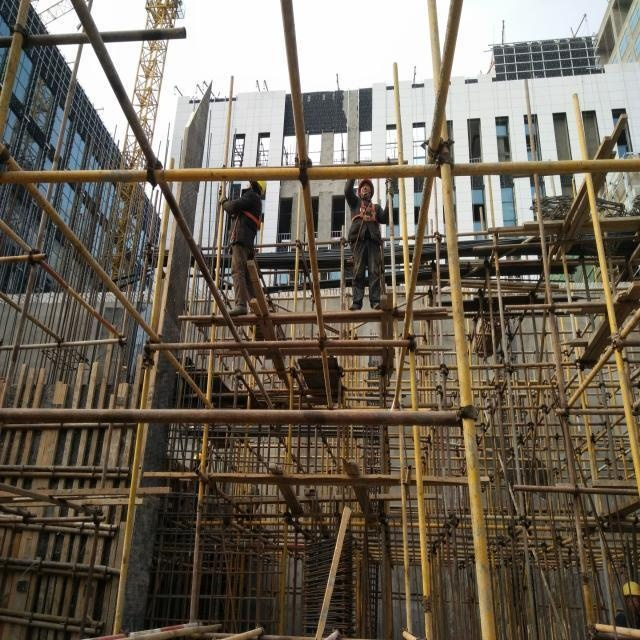Arnes_seguridad: (228, 187, 264, 245), (350, 197, 380, 228)
